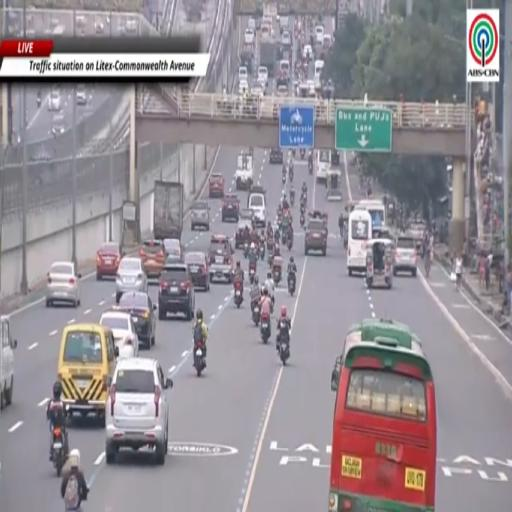bus: (329, 319, 437, 511), (347, 210, 372, 276), (355, 200, 386, 227), (316, 150, 330, 181), (53, 25, 65, 36)
car: (105, 358, 172, 465), (57, 324, 118, 420), (116, 292, 157, 349), (158, 262, 194, 319), (100, 310, 138, 358), (0, 316, 17, 410), (46, 262, 80, 307), (116, 256, 148, 303), (209, 235, 234, 282), (140, 239, 166, 278), (393, 234, 417, 276), (96, 242, 121, 280), (185, 252, 209, 291), (305, 219, 327, 255), (248, 189, 266, 227), (190, 200, 210, 230), (235, 219, 253, 248), (164, 238, 183, 263), (222, 195, 239, 221), (209, 173, 224, 198), (47, 87, 62, 112), (51, 112, 65, 136), (240, 207, 255, 229), (76, 84, 88, 106), (125, 16, 138, 36), (280, 59, 290, 83), (277, 78, 288, 97), (258, 67, 268, 87), (270, 148, 282, 164), (252, 83, 264, 99), (256, 77, 267, 94), (315, 25, 324, 44), (94, 19, 104, 35), (303, 45, 313, 60), (322, 35, 332, 50), (239, 67, 248, 83), (245, 28, 254, 43), (282, 31, 291, 46), (239, 80, 248, 94), (248, 17, 256, 32), (255, 16, 261, 30)
motorcycle: (52, 427, 67, 476), (277, 328, 290, 364), (194, 343, 205, 376), (261, 313, 270, 343), (279, 341, 290, 365), (251, 301, 260, 326), (234, 282, 242, 308), (273, 258, 281, 284), (288, 272, 296, 296), (249, 263, 256, 284), (286, 229, 293, 250), (243, 242, 249, 259), (282, 229, 287, 246), (300, 202, 306, 216), (259, 244, 264, 260), (268, 250, 273, 266), (300, 213, 305, 227), (36, 95, 41, 108), (274, 230, 279, 243), (289, 167, 293, 183), (290, 191, 294, 206), (300, 149, 305, 159), (282, 174, 286, 185), (309, 162, 312, 174)
truck: (153, 181, 183, 239), (260, 36, 278, 76), (240, 43, 254, 73)
